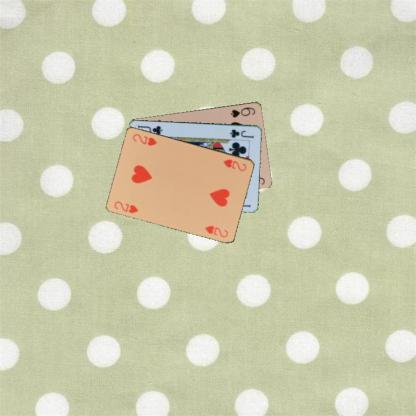2h: (111, 198, 140, 214), (221, 156, 248, 172)
6s: (228, 104, 257, 118)
Jc: (228, 127, 255, 139)
